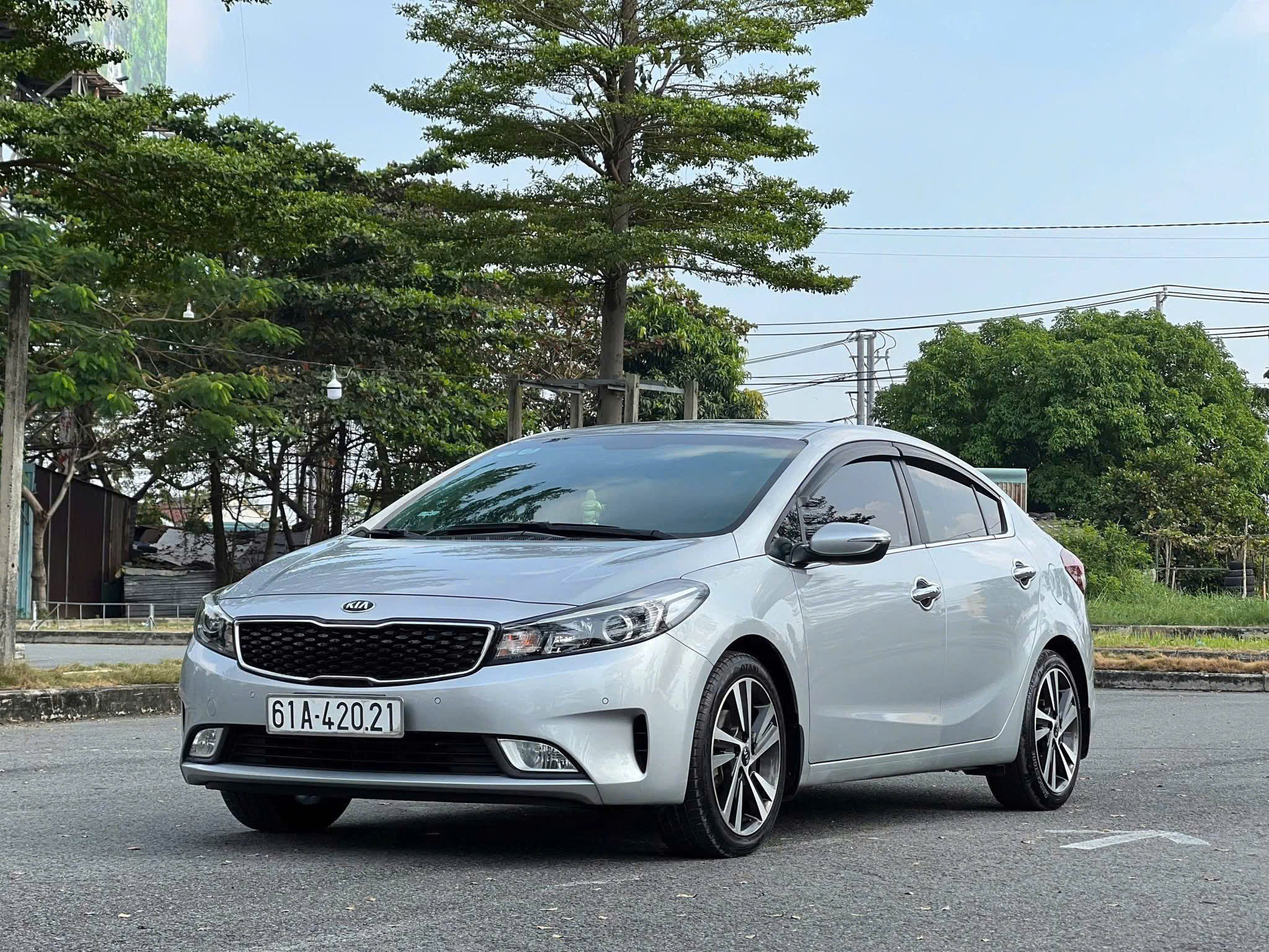Bien-so: (266, 689, 403, 735)
